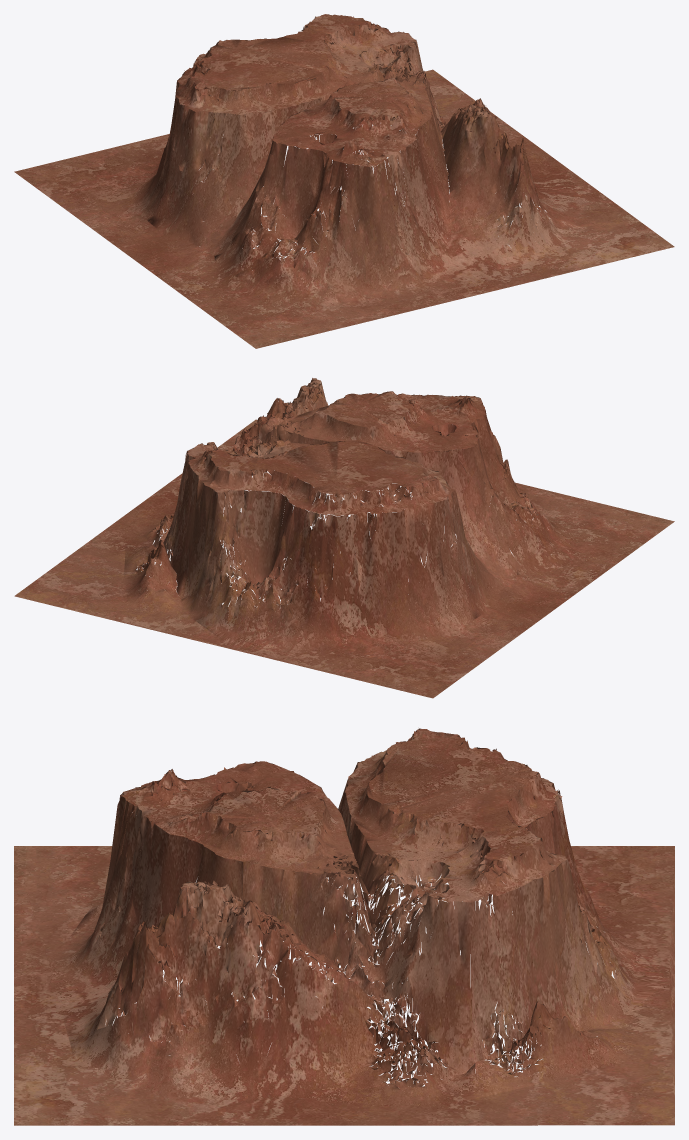
File: ap_modular_wadi_desert_rock3_lo.gltf
3 views of the same model, one above another, from view 1: azimuth 30°, elevation 25°; view 2: azimuth 150°, elevation 25°; view 3: azimuth 270°, elevation 25° (orthographic). The views are drawn at different scales.
Visible parts, largest first — view 1: ap_modular_wadi_desert_rock3; view 2: ap_modular_wadi_desert_rock3; view 3: ap_modular_wadi_desert_rock3.
Part boxes in pixels (left/top/right/bottom): ap_modular_wadi_desert_rock3: left=14, top=14, right=674, bottom=348; ap_modular_wadi_desert_rock3: left=14, top=378, right=674, bottom=698; ap_modular_wadi_desert_rock3: left=14, top=728, right=674, bottom=1125.
Bounding box in the file's own units: 24 × 7.19 × 24.
Materials: 1 (1 with a texture image).
